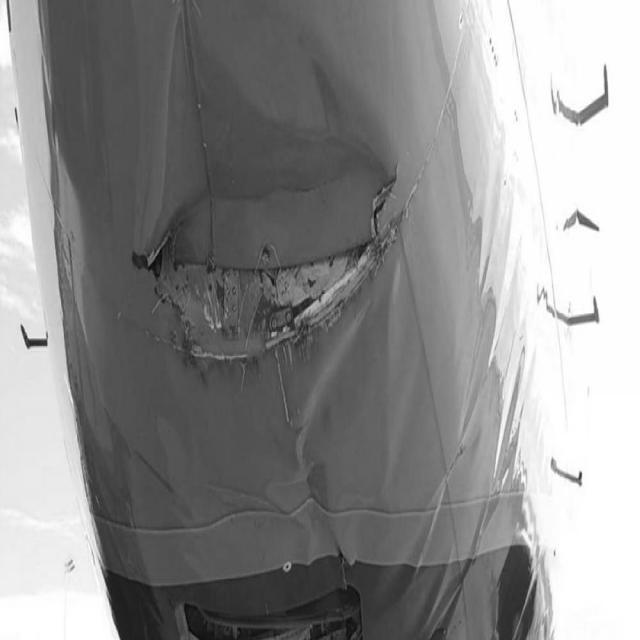crack: (137, 171, 413, 371)
